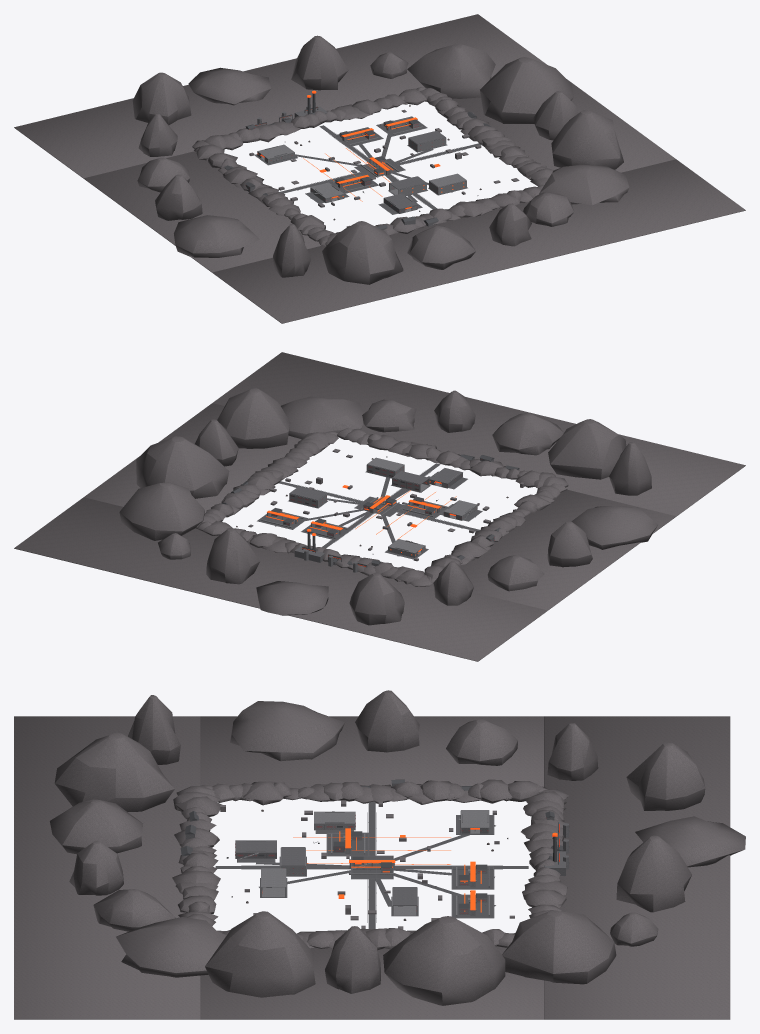
The picture shows the model from 3 angles, top to bottom: view 1: azimuth 30°, elevation 25°; view 2: azimuth 150°, elevation 25°; view 3: azimuth 270°, elevation 25°; orthographic projection. The views are drawn at different scales.
Visible parts, largest first — view 1: HB_z05_LOD1_terrain, HB_z05_LOD1_wall, HB_z05_LOD1_road, HB_z05_LOD1_wall_alt, HB_z05_LOD1_trim, HB_z05_LOD1_emissive, HB_z05_LOD1_obstacle; view 2: HB_z05_LOD1_terrain, HB_z05_LOD1_road, HB_z05_LOD1_wall, HB_z05_LOD1_wall_alt, HB_z05_LOD1_trim, HB_z05_LOD1_emissive, HB_z05_LOD1_obstacle; view 3: HB_z05_LOD1_terrain, HB_z05_LOD1_road, HB_z05_LOD1_wall_alt, HB_z05_LOD1_wall, HB_z05_LOD1_trim, HB_z05_LOD1_emissive, HB_z05_LOD1_obstacle.
Part boxes in pixels (x1,y1,x2,y2): HB_z05_LOD1_terrain: [14, 14, 745, 323]; HB_z05_LOD1_wall: [257, 117, 466, 213]; HB_z05_LOD1_road: [255, 117, 482, 214]; HB_z05_LOD1_wall_alt: [225, 105, 476, 230]; HB_z05_LOD1_trim: [224, 93, 490, 228]; HB_z05_LOD1_emissive: [257, 90, 464, 209]; HB_z05_LOD1_obstacle: [249, 108, 519, 227]; HB_z05_LOD1_terrain: [14, 352, 745, 661]; HB_z05_LOD1_road: [258, 463, 481, 559]; HB_z05_LOD1_wall: [261, 457, 477, 557]; HB_z05_LOD1_wall_alt: [231, 457, 519, 572]; HB_z05_LOD1_trim: [222, 454, 519, 567]; HB_z05_LOD1_emissive: [266, 481, 456, 555]; HB_z05_LOD1_obstacle: [248, 449, 524, 566]; HB_z05_LOD1_terrain: [14, 690, 745, 1019]; HB_z05_LOD1_road: [215, 801, 528, 929]; HB_z05_LOD1_wall_alt: [181, 783, 569, 922]; HB_z05_LOD1_wall: [239, 810, 489, 916]; HB_z05_LOD1_trim: [180, 779, 563, 915]; HB_z05_LOD1_emissive: [262, 828, 557, 912]; HB_z05_LOD1_obstacle: [220, 800, 557, 929].
Bounding box in the file's own units: 661 × 63.88 × 668.
10 materials, 8 textured.
